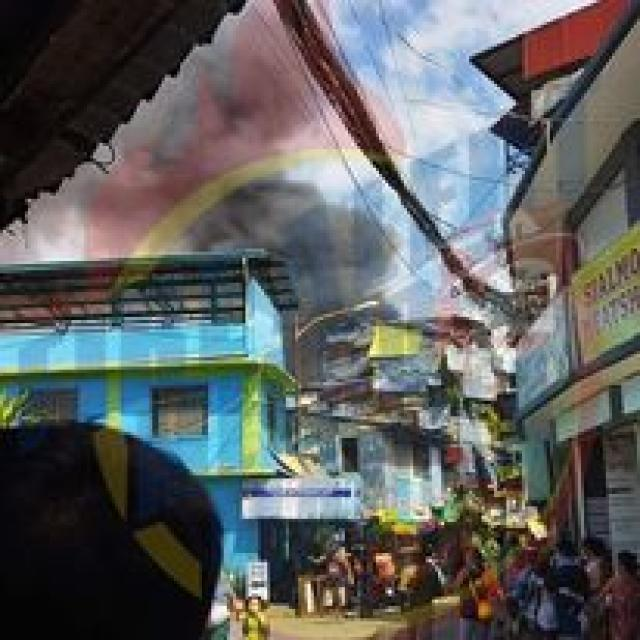Smoke: (208, 170, 398, 330)
